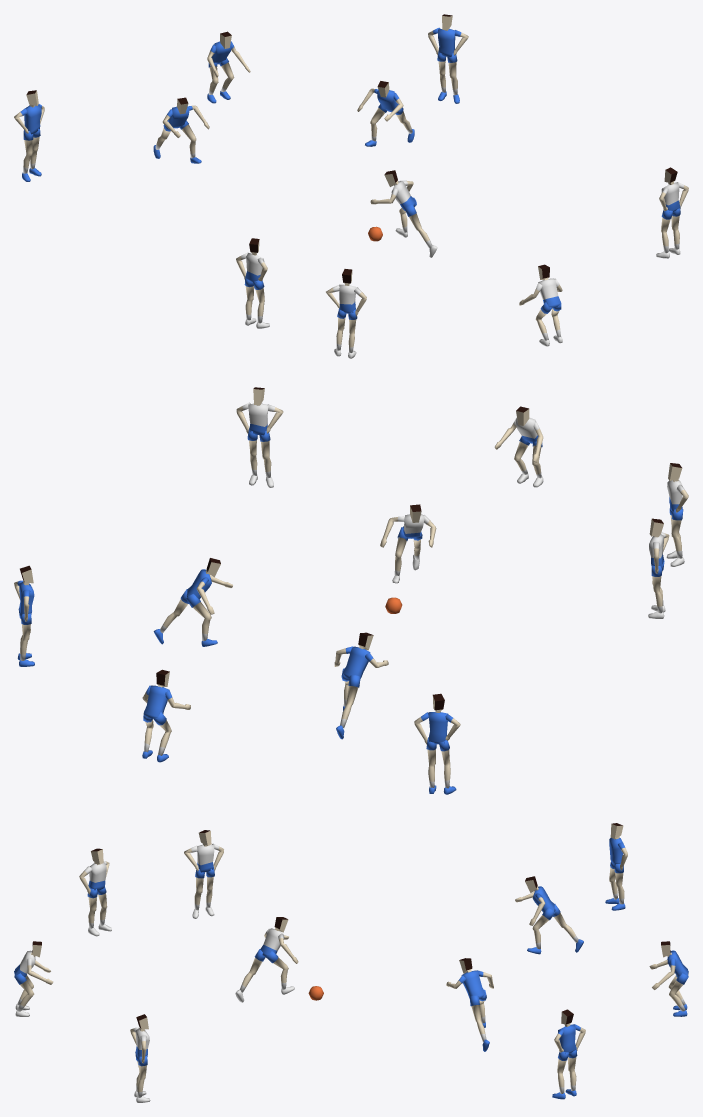
File: mesh_OswiecimFootballPlayers.fbx
3 views of the same model, one above another, from view 1: azimuth 30°, elevation 25°; view 2: azimuth 150°, elevation 25°; view 3: azimuth 270°, elevation 25° (orthographic). The views are drawn at different scales.
Parts seen in each view (by area): view 1: OswiecimFootballPlayers; view 2: OswiecimFootballPlayers; view 3: OswiecimFootballPlayers.
Part boxes in pixels (bbox=[...]): OswiecimFootballPlayers: bbox=[14, 14, 688, 358]; OswiecimFootballPlayers: bbox=[14, 387, 688, 794]; OswiecimFootballPlayers: bbox=[14, 823, 688, 1102].
Bounding box in the file's own units: 523 × 97.65 × 708.
